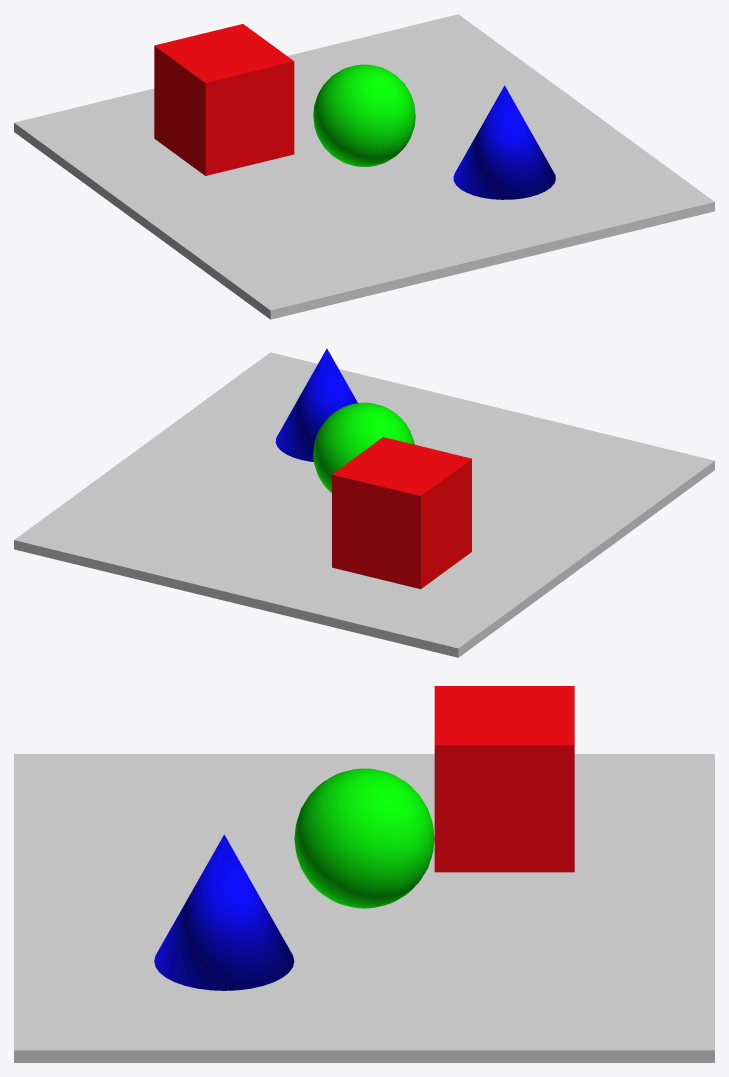
File: shadows-directional.gltf
The picture shows the model from 3 angles, top to bottom: view 1: azimuth 30°, elevation 25°; view 2: azimuth 150°, elevation 25°; view 3: azimuth 270°, elevation 25°; orthographic projection. The views are drawn at different scales.
Parts seen in each view (by area): view 1: Cube, Cube.001, Sphere, Cone; view 2: Cube, Cube.001, Sphere, Cone; view 3: Cube, Cube.001, Sphere, Cone.
Boxes of the visible parts, box(x1,y1,x2,y2) form: Cube: box(14, 14, 714, 319); Cube.001: box(154, 24, 294, 175); Sphere: box(313, 64, 415, 166); Cone: box(453, 85, 555, 199); Cube: box(14, 352, 714, 657); Cube.001: box(332, 437, 471, 589); Sphere: box(313, 402, 414, 492); Cone: box(275, 348, 357, 461); Cube: box(14, 754, 714, 1062); Cube.001: box(434, 686, 574, 872); Sphere: box(294, 768, 434, 908); Cone: box(154, 834, 294, 990).
Bounding box in the file's own units: 10 × 2.2 × 10.
